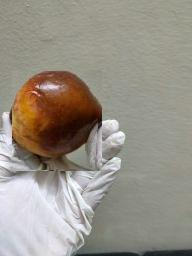Apple Rotten: (12, 71, 102, 171)
